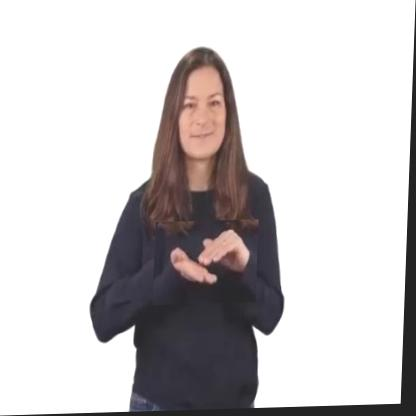ExcuseMe: (155, 221, 260, 306)
